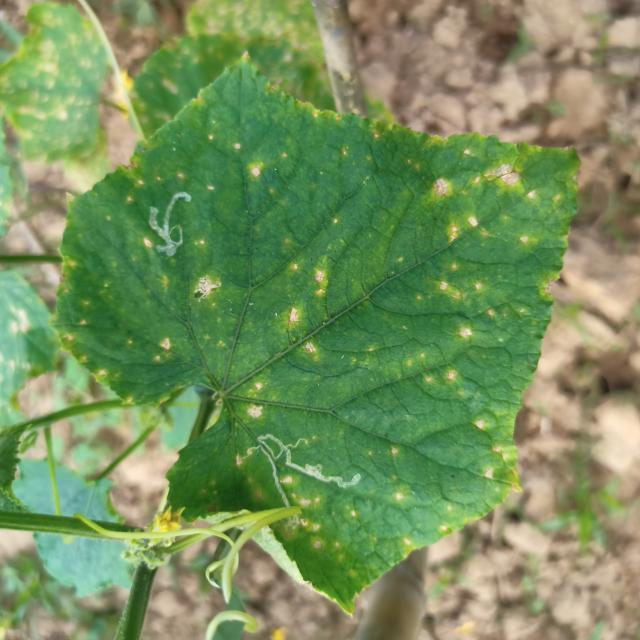disease_cucumber: (403, 143, 580, 482), (223, 444, 466, 584), (192, 237, 348, 421), (58, 218, 177, 406), (109, 115, 292, 209)
